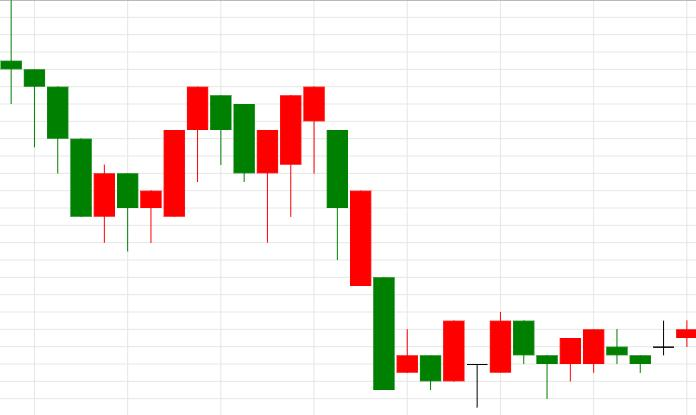hanging_man_fall: (93, 85, 209, 251)
